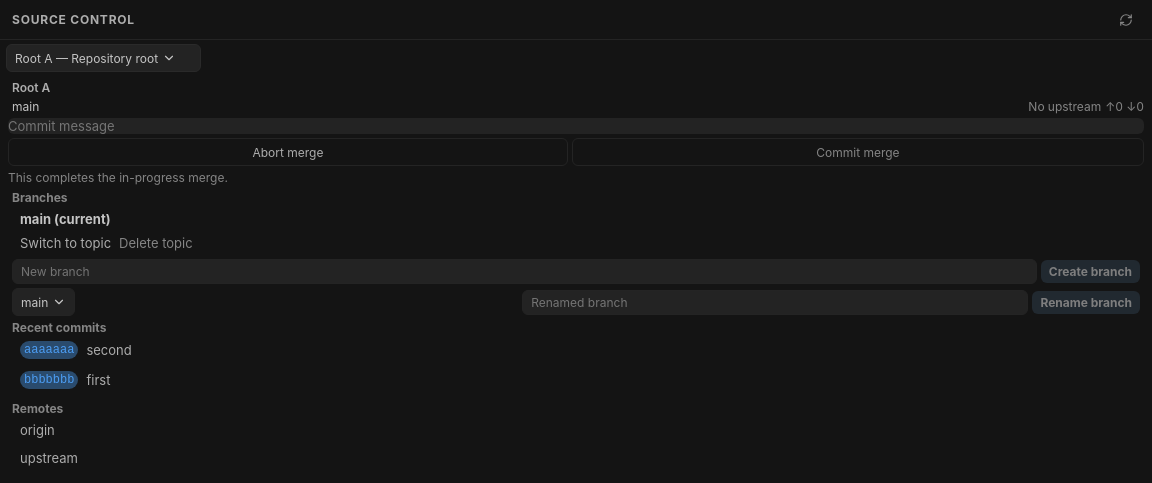
Test: enables Commit merge after a resolved merge with no leftover staged delta
Type "Merge other" into the text box named "Commit message for Root A".
click(576, 126); type("Merge other")  # box [8,118,1144,134]
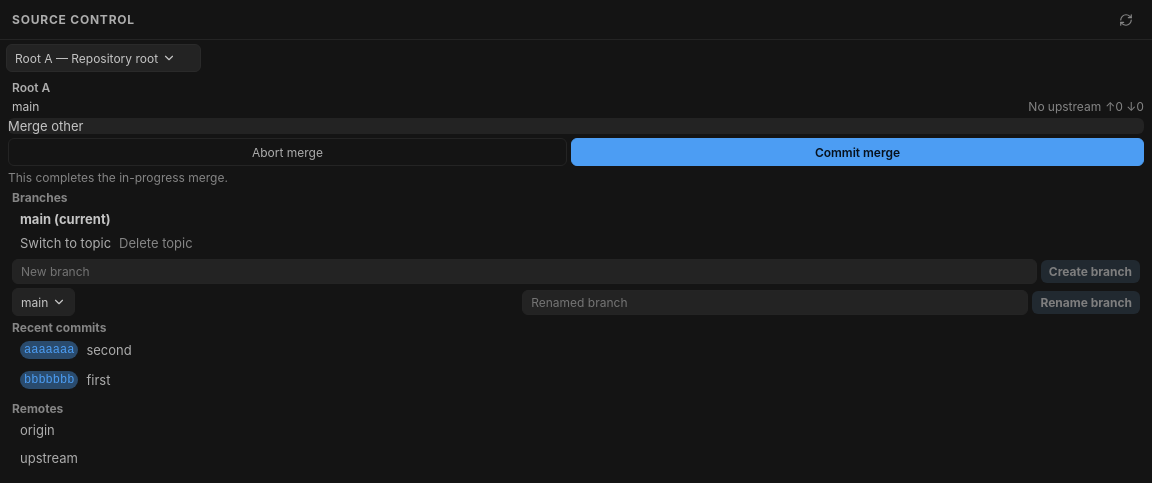
expect the text "This completes the in-progress merge." is shown: met, box [8,170,228,185]
expect the button with aria-label "Commit merge in Root A" is enabled: met, box [571,138,1144,166]
